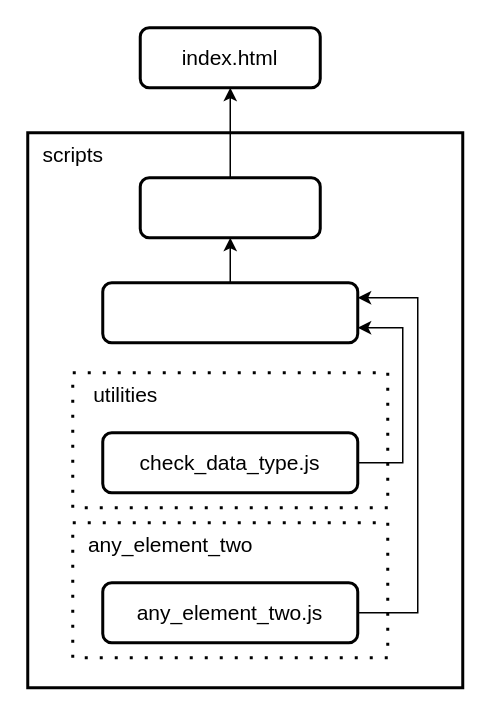
Some shapes in this 489 by 714 pixel diagram are drawn without their labels. Each missing label, with the box of its shape:
any_element_one.js: (100, 280, 358, 344)
main.js: (138, 176, 321, 238)
